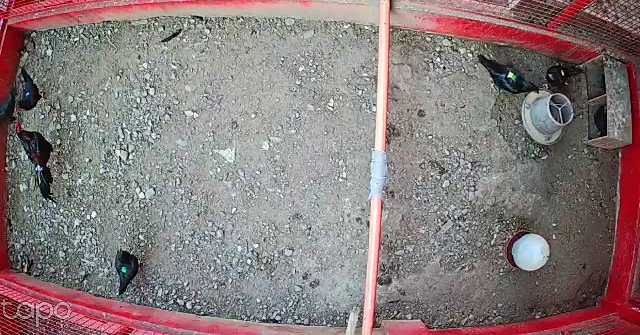Chicken: (474, 52, 542, 100), (113, 241, 145, 302), (18, 68, 44, 113), (546, 63, 581, 86)
Rooster: (12, 118, 62, 204)
Saddle_Color_Blue: (27, 93, 29, 96)
Saddle_Color_Green: (121, 266, 128, 273)
Saddle_Color_Yellow: (560, 70, 565, 76)
Saddle_Color_YellowGreen: (507, 70, 518, 82)
